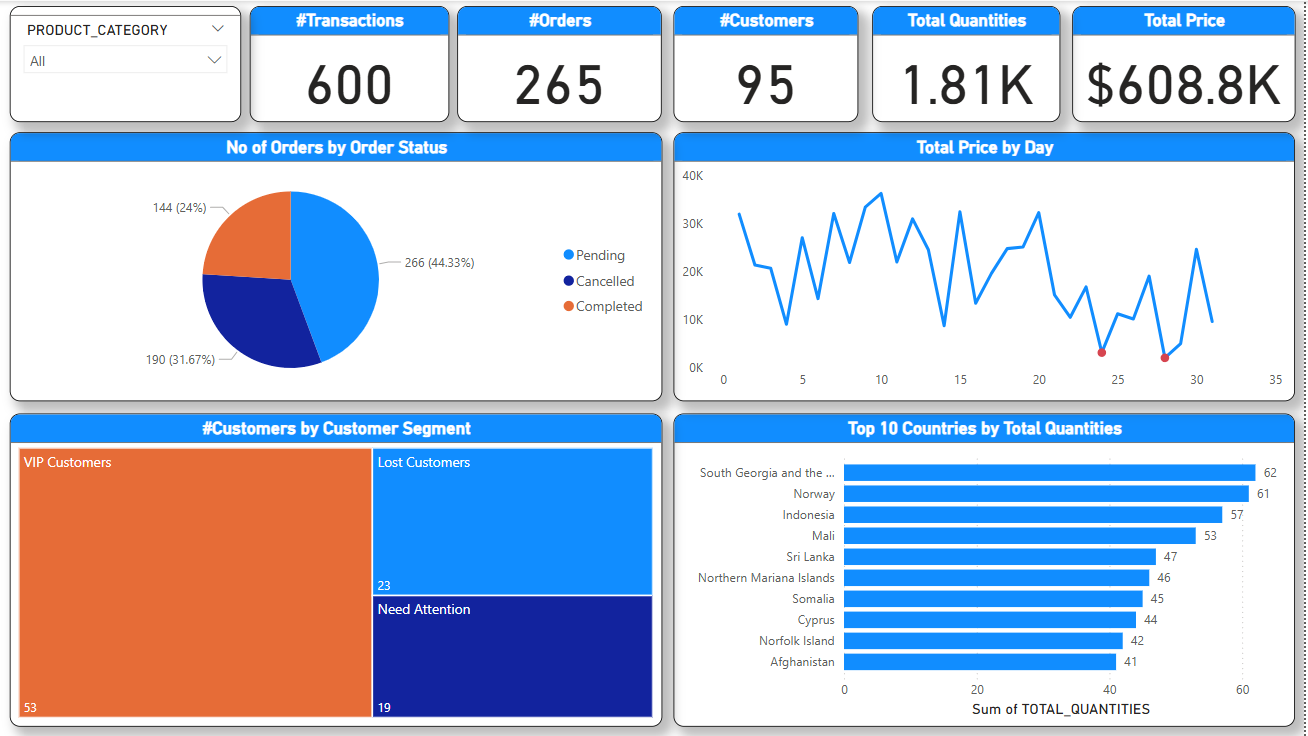

The dashboard page shown, as its layout file describes it:
{"tool":"powerbi","page":{"name":"Overview","canvas":[1280,720],"ordinal":0},"visuals":[{"type":"barChart","title":"Top 10 Countries by Total Quantities","fields":{"Category":["COUNTRIES_QUANTITIES.COUNTRY"],"Y":["Sum(COUNTRIES_QUANTITIES.TOTAL_QUANTITIES)"]},"box":[662.8,403.4,607.9,306],"z":0},{"type":"lineChart","title":"Total Price by Day","fields":{"Category":["DAILY_ORDER_REVENUE.ORDER_DATE.Variation.Date Hierarchy.Month","DAILY_ORDER_REVENUE.ORDER_DATE.Variation.Date Hierarchy.Day"],"Y":["Sum(DAILY_ORDER_REVENUE.TOTAL_PRICE)"]},"box":[662.8,129,607.9,263.5],"z":1},{"type":"pieChart","title":"No of Orders by Order Status","fields":{"Y":["Sum(STATUS_ORDER_COUNT.No of Orders)"],"Category":["STATUS_ORDER_COUNT.ORDER_STATUS"]},"box":[13.5,128.4,638.3,264.1],"z":2},{"type":"card","title":"#Transactions","fields":{"Values":["Measures_T.#Transactions"]},"box":[248.4,5.5,194.9,113.9],"z":3},{"type":"card","title":"#Orders","fields":{"Values":["Measures_T.#Orders"]},"box":[451.5,5.5,200.3,113.9],"z":4},{"type":"card","title":"Total Price","fields":{"Values":["Measures_T.Total Price"]},"box":[1052.5,5.5,218.2,113.9],"z":5},{"type":"card","title":"Total Quantities","fields":{"Values":["Measures_T.Total Quantities"]},"box":[857.6,5.5,183.9,113.9],"z":6},{"type":"card","title":"#Customers","fields":{"Values":["Measures_T.#Customers"]},"box":[662.8,5.5,181.1,113.9],"z":7},{"type":"treemap","title":"#Customers by Customer Segment","fields":{"Group":["Customer Segmentation.CUSTOMER_SEGMENT"],"Values":["Measures_T.#Customers"]},"box":[13.7,403.4,638.1,306],"z":8},{"type":"slicer","fields":{"Values":["Dim_Product.PRODUCT_CATEGORY"]},"box":[13.7,5.5,226.4,113.9],"z":9}]}

Visuals, with their boxes in screenshot pixels (x1, y1, x2, y2), scaled from the page's 1280x720 canvas onto the 1308x736 screenshot:
"Top 10 Countries by Total Quantities" barChart: crop(677, 412, 1298, 725)
"Total Price by Day" lineChart: crop(677, 132, 1298, 401)
"No of Orders by Order Status" pieChart: crop(14, 131, 666, 401)
"#Transactions" card: crop(254, 6, 453, 122)
"#Orders" card: crop(461, 6, 666, 122)
"Total Price" card: crop(1076, 6, 1298, 122)
"Total Quantities" card: crop(876, 6, 1064, 122)
"#Customers" card: crop(677, 6, 862, 122)
"#Customers by Customer Segment" treemap: crop(14, 412, 666, 725)
slicer - Dim_Product.PRODUCT_CATEGORY: crop(14, 6, 245, 122)
